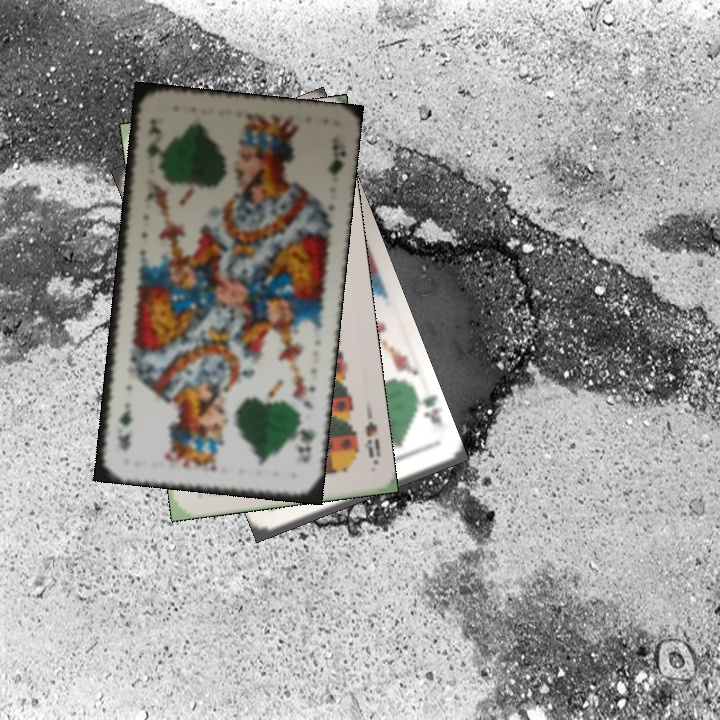GK: (411, 388, 445, 430), (292, 416, 319, 466), (143, 115, 166, 169)
S8: (359, 418, 380, 461)
